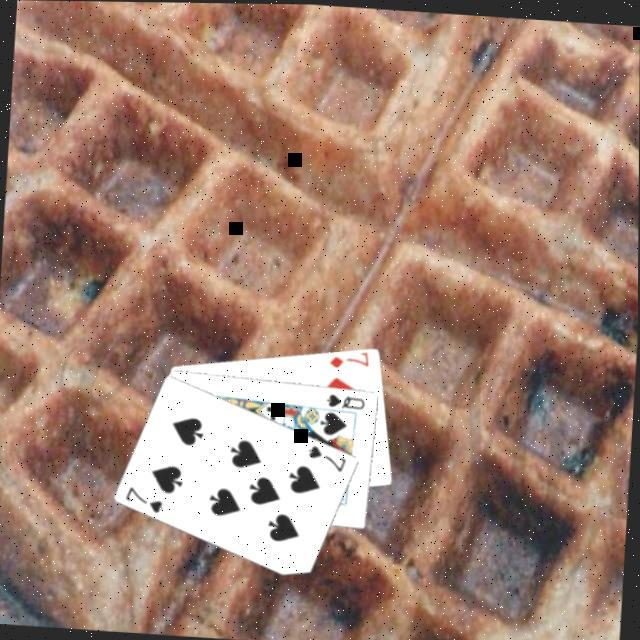7D: (325, 344, 372, 370)
7S: (120, 480, 166, 513), (304, 439, 349, 472)
QS: (322, 386, 366, 409)
